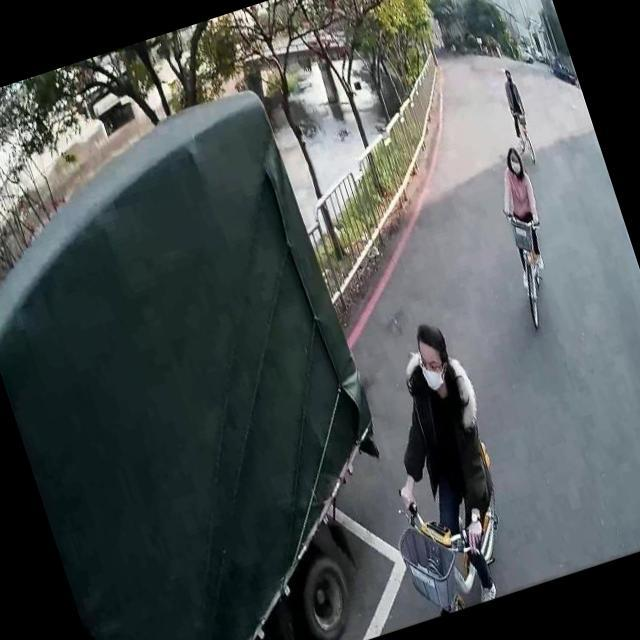person: (344, 300, 540, 618), (479, 142, 563, 291), (494, 65, 538, 153)
